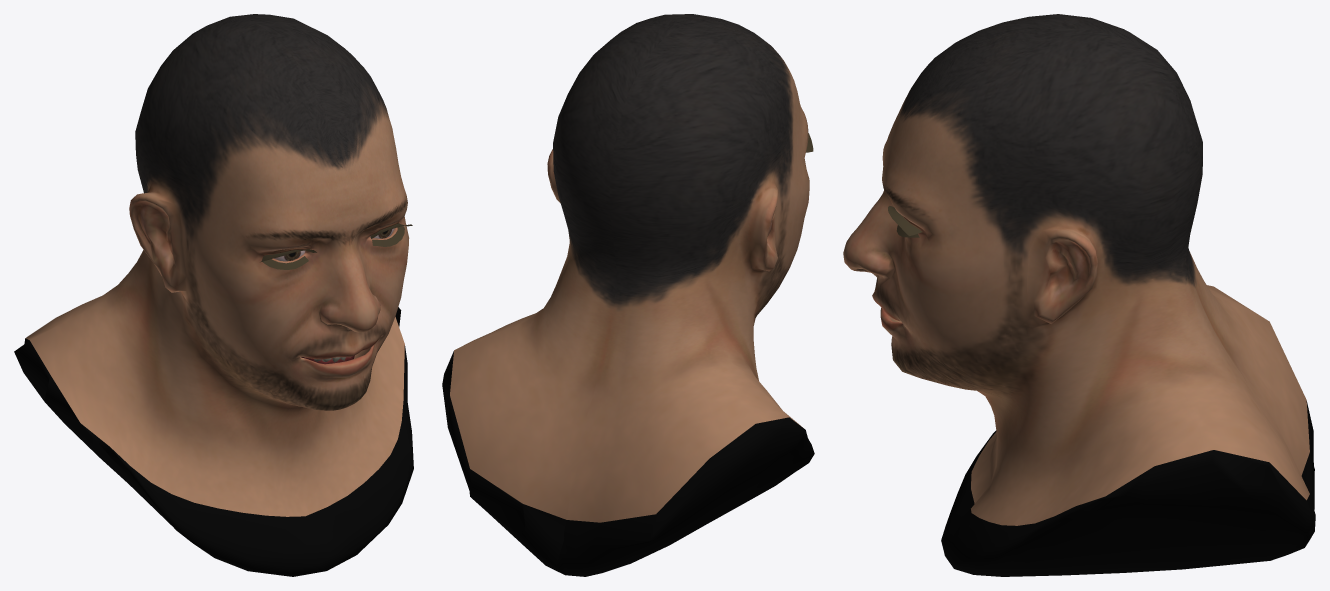
The model's file is Head_th.obj.
3 views of the same model, side by side, from view 1: azimuth 30°, elevation 25°; view 2: azimuth 150°, elevation 25°; view 3: azimuth 270°, elevation 25° (orthographic). The views are drawn at different scales.
Parts seen in each view (by area): view 1: BodyParts; view 2: BodyParts; view 3: BodyParts.
Boxes of the visible parts, x1,y1,x2,y2 form: BodyParts: [14, 14, 413, 576]; BodyParts: [442, 14, 814, 576]; BodyParts: [843, 14, 1315, 576].
Bounding box in the file's own units: 27.78 × 38.23 × 30.66.
Materials: 2 (2 with a texture image).
